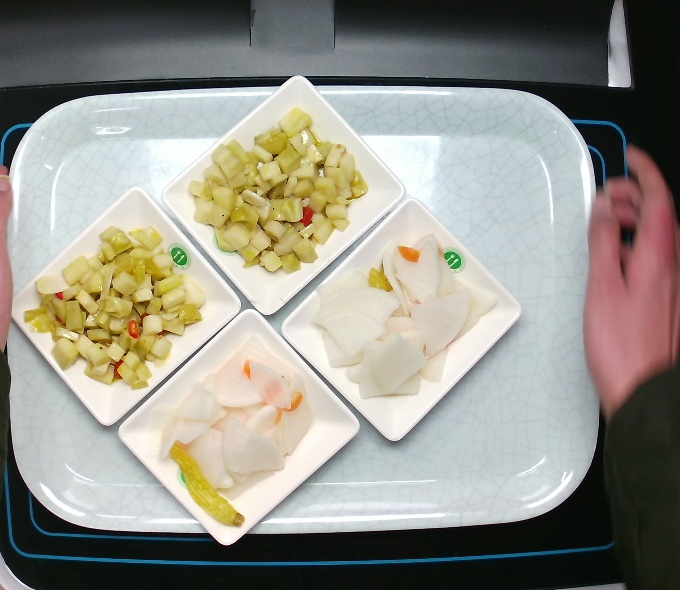wcq-LuLuoBo: (304, 234, 498, 405), (151, 332, 318, 530)
wcq-TangCuOu: (180, 106, 370, 280), (20, 212, 202, 390)
